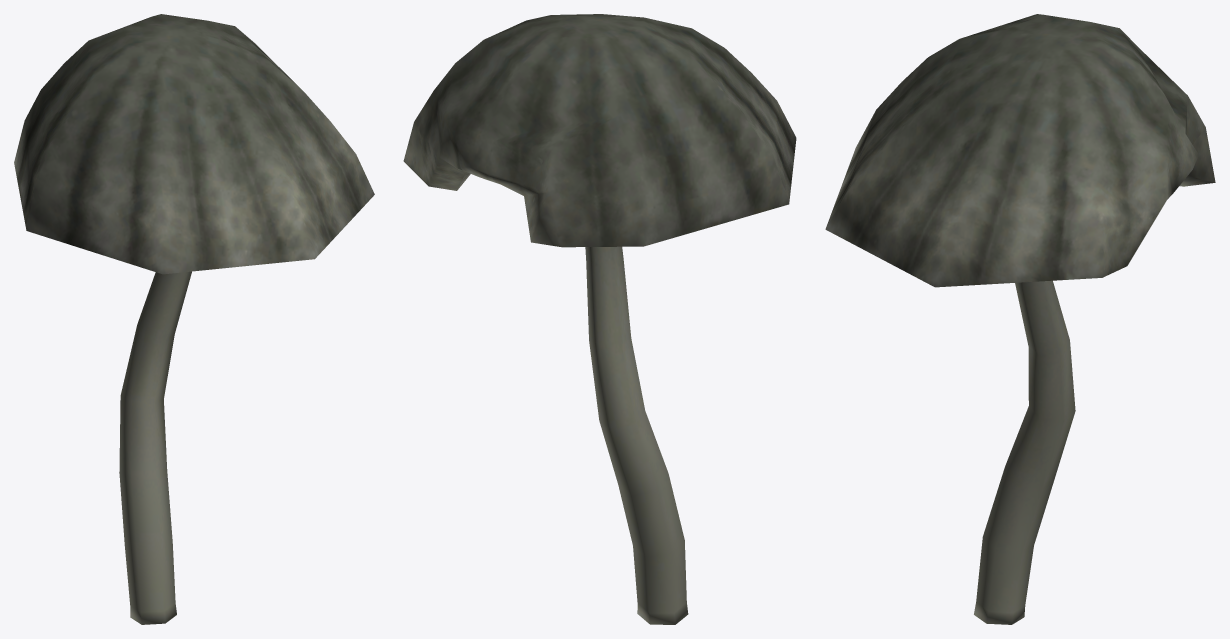
The model's file is cave_mushroom_single_03.dae.
The picture shows the model from 3 angles, left to right: view 1: azimuth 30°, elevation 25°; view 2: azimuth 150°, elevation 25°; view 3: azimuth 270°, elevation 25°; orthographic projection. The views are drawn at different scales.
Visible parts, largest first — view 1: 03; view 2: 03; view 3: 03.
Part boxes in pixels (x1,y1,x2,y2): 03: (14,14,374,624); 03: (403,14,796,624); 03: (825,14,1215,624).
Size of the model in its own units: 0.1389 by 0.2359 by 0.1381.
